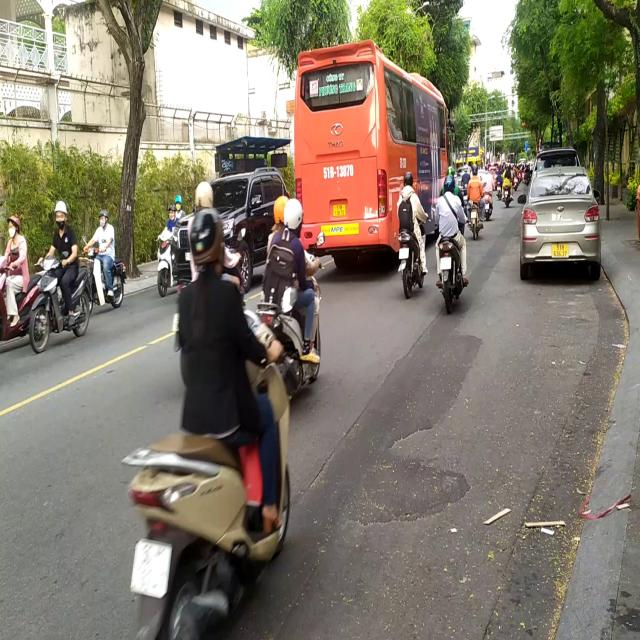bien_vang: (551, 240, 570, 260)
